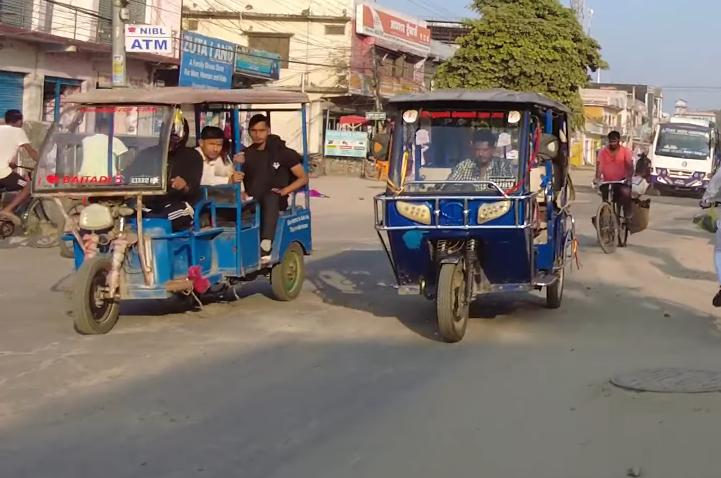bus: (649, 114, 721, 199)
e-rickshaw: (34, 71, 325, 338), (362, 85, 569, 339)
